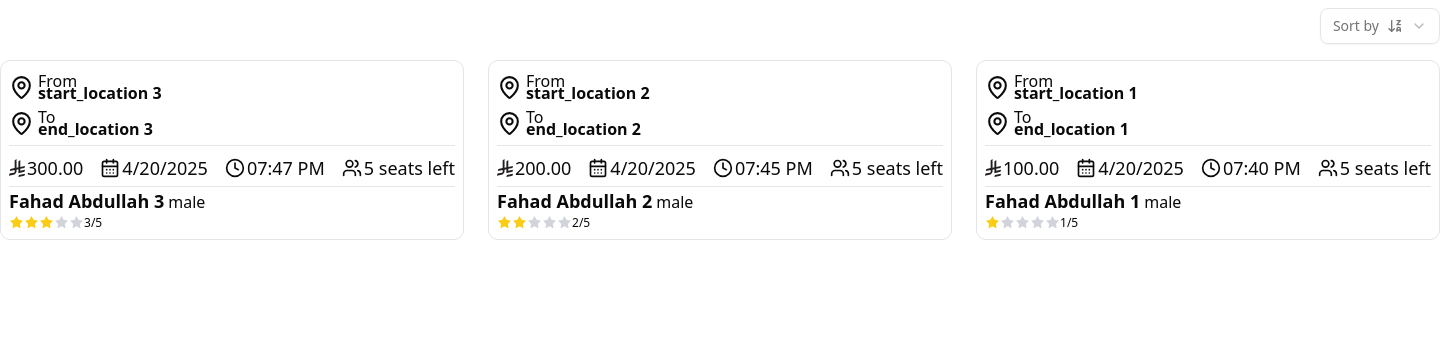
<SearchResult /> › sorts by lowest rating
This screenshot has width=1452, height=355.
Click the dropdown with id "sortBy". click: (1380, 26)
box: [1320, 8, 1440, 44]
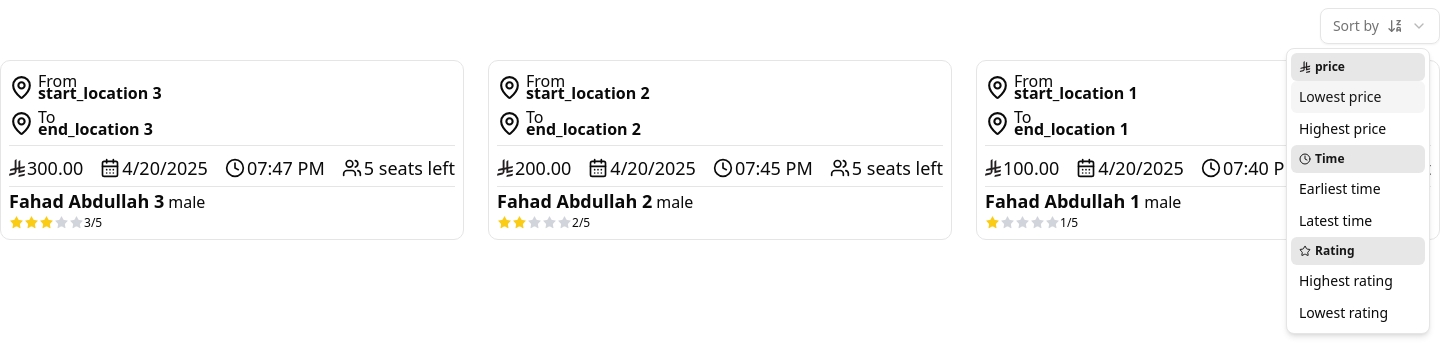
Click the text "Lowest rating". click: (1344, 313)
box: [1299, 303, 1388, 323]
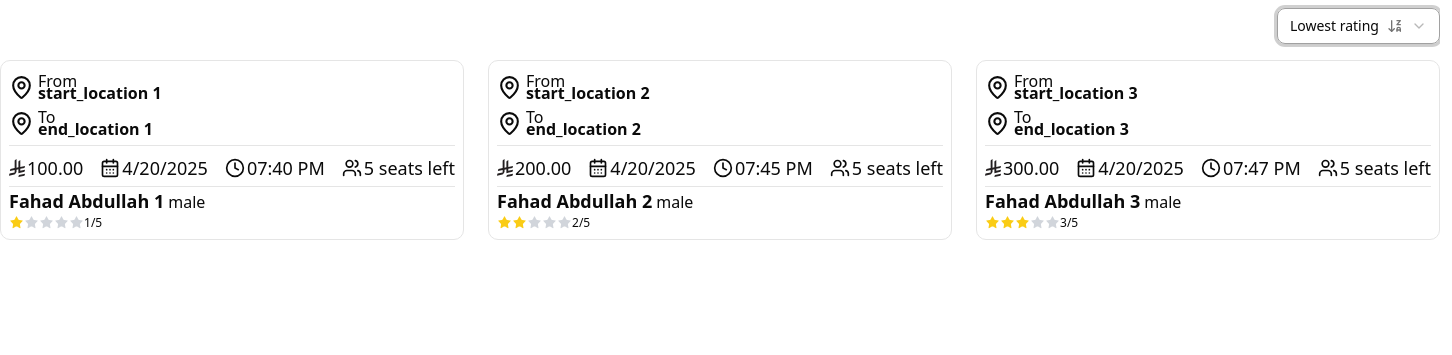
Expected: the element with id "trip-card" shows "Fahad Abdullah 2", [488, 60, 952, 240]
Now the element with id "trip-card" shows "Fahad Abdullah 1", box [0, 60, 464, 240]
Now the element with id "trip-card" shows "Fahad Abdullah 3", box [976, 60, 1440, 240]
